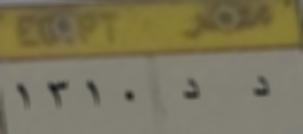0: (119, 83, 138, 108)
1: (81, 74, 106, 115), (12, 79, 36, 118)
3: (45, 78, 72, 114)
daal: (174, 70, 205, 105), (245, 71, 276, 104)
